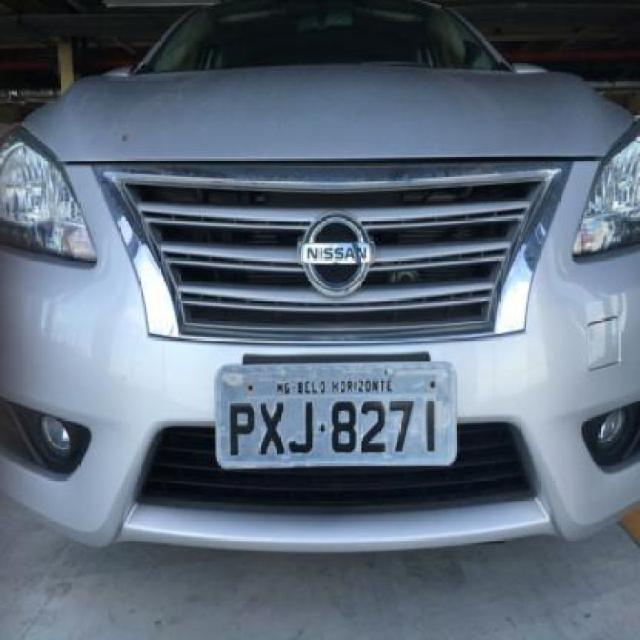old_plate: (210, 354, 463, 475)
